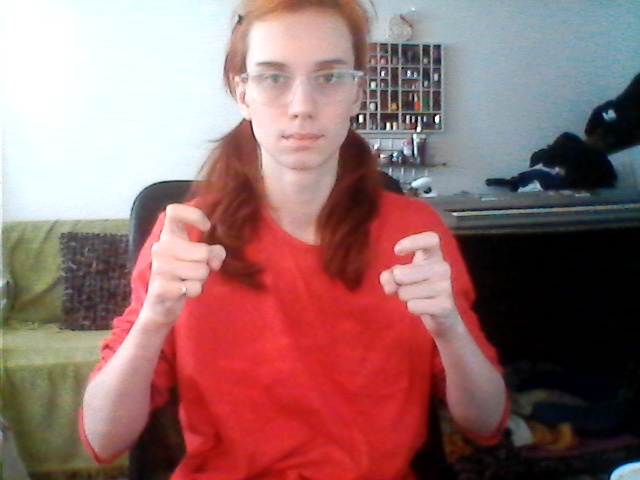davat: (148, 197, 457, 336)
